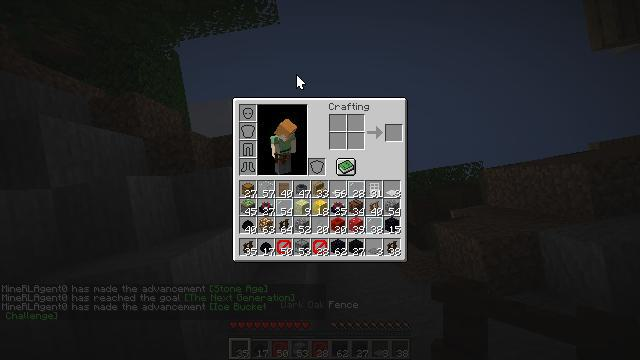cursor: (296, 74, 306, 90)
